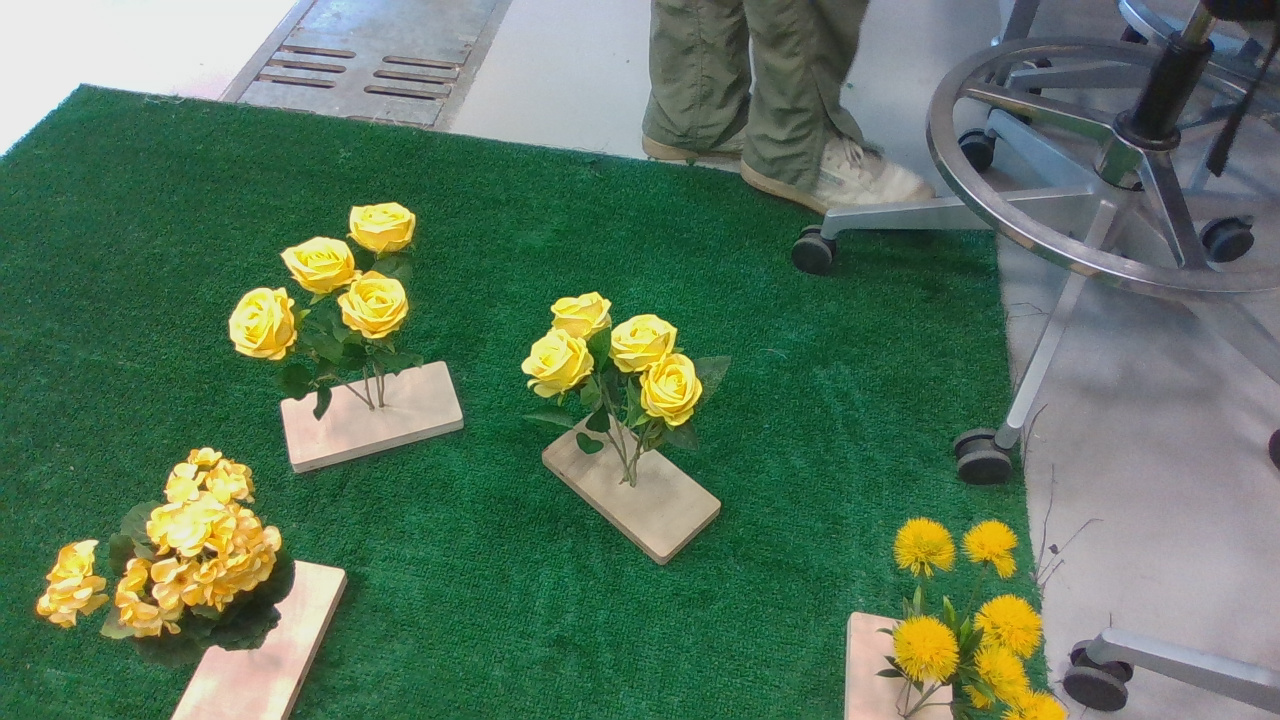dandelion: (860, 512, 1083, 720)
geranium: (37, 444, 312, 676)
rose: (225, 198, 443, 403), (511, 286, 741, 463)
